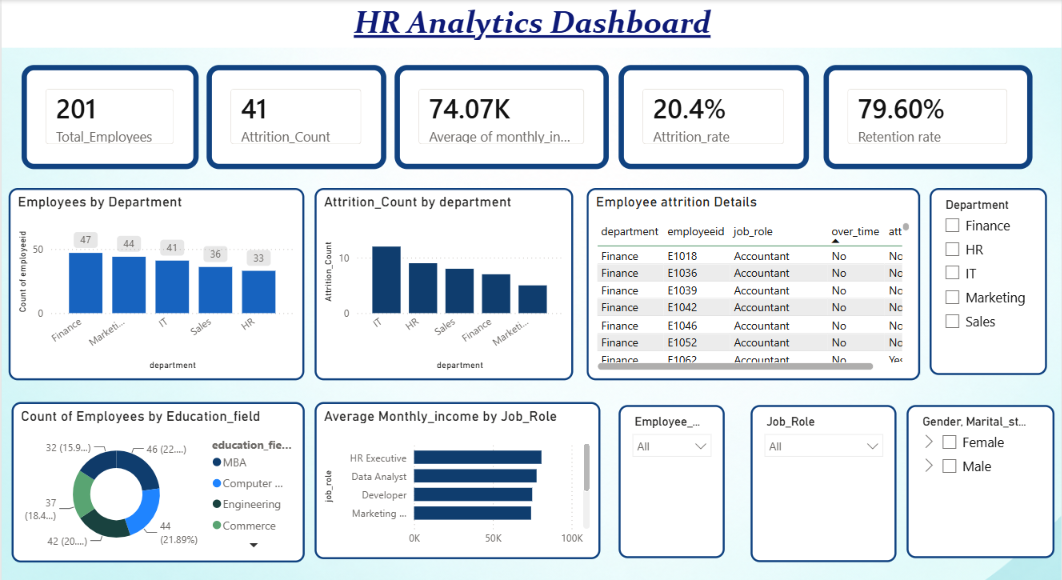

What the dashboard file says about the page in this screenshot:
{"tool":"powerbi","page":{"name":"Page 1","canvas":[1280,720],"ordinal":0},"visuals":[{"type":"textbox","box":[0,0,1280.3,57.6],"z":0},{"type":"clusteredColumnChart","title":"Employees by Department","fields":{"Category":["public hr_employee.department"],"Y":["CountNonNull(public hr_employee.employeeid)"]},"box":[8.6,226.2,357.1,232.3],"z":2000},{"type":"clusteredColumnChart","fields":{"Category":["public hr_employee.department"],"Y":["public hr_employee.Attrition_Count"]},"box":[377.9,226.2,311.8,232.3],"z":3000},{"type":"donutChart","title":"Count of Employees by Education_field","fields":{"Category":["public hr_employee.education_field"],"Y":["CountNonNull(public hr_employee.employeeid)"]},"box":[12.2,485.5,353.4,193.4],"z":5000},{"type":"clusteredBarChart","title":"Average Monthly_income by Job_Role","fields":{"Category":["public hr_employee.job_role"],"Y":["Avg(public hr_employee.monthly_income)"]},"box":[377.9,485.5,344.8,189.5],"z":6000},{"type":"tableEx","title":"Employee attrition Details","fields":{"Values":["public hr_employee.department","public hr_employee.employeeid","public hr_employee.job_role","public hr_employee.over_time","public hr_employee.attrition"]},"box":[705.6,226.2,402.3,232.3],"z":8000},{"type":"slicer","fields":{"Values":["public hr_employee.department"]},"box":[1120.1,226.2,141.9,225.4],"z":9000},{"type":"slicer","fields":{"Values":["public hr_employee.employeeid"]},"box":[744.7,489.1,128,185],"z":10000},{"type":"cardVisual","title":"Retention Rate","fields":{"Data":["public hr_employee.Retention rate"]},"box":[991.7,78.3,251.9,126],"z":11001},{"type":"cardVisual","fields":{"Data":["public hr_employee.Attrition_Count"]},"box":[247,78.3,216.4,126],"z":11002},{"type":"cardVisual","fields":{"Data":["public hr_employee.Attrition_rate"]},"box":[744.7,78.3,229.9,126],"z":11003},{"type":"cardVisual","fields":{"Data":["Avg(public hr_employee.monthly_income)"]},"box":[474.5,78.3,258,126],"z":11004},{"type":"cardVisual","fields":{"Data":["public hr_employee.Total_Employees"]},"box":[24.5,78.3,214,126],"z":11005},{"type":"slicer","fields":{"Values":["public hr_employee.job_role"]},"box":[903.7,489.1,176.1,189.5],"z":11007},{"type":"slicer","fields":{"Values":["public hr_employee.gender","public hr_employee.marital_status"]},"box":[1092,489.1,178.5,184.6],"z":11008}]}

Visuals, with their boxes in screenshot pixels (x1, y1, x2, y2), scaled from the page's 1280x720 canvas onto the 1062x580 screenshot:
textbox: <box>0,0,1061,46</box>
"Employees by Department" clusteredColumnChart: <box>7,182,303,369</box>
clusteredColumnChart - public hr_employee.department x public hr_employee.Attrition_Count: <box>314,182,572,369</box>
"Count of Employees by Education_field" donutChart: <box>10,391,303,547</box>
"Average Monthly_income by Job_Role" clusteredBarChart: <box>314,391,600,544</box>
"Employee attrition Details" tableEx: <box>585,182,919,369</box>
slicer - public hr_employee.department: <box>929,182,1047,364</box>
slicer - public hr_employee.employeeid: <box>618,394,724,543</box>
"Retention Rate" cardVisual: <box>823,63,1032,165</box>
cardVisual - public hr_employee.Attrition_Count: <box>205,63,384,165</box>
cardVisual - public hr_employee.Attrition_rate: <box>618,63,809,165</box>
cardVisual - Avg(public hr_employee.monthly_income): <box>394,63,608,165</box>
cardVisual - public hr_employee.Total_Employees: <box>20,63,198,165</box>
slicer - public hr_employee.job_role: <box>750,394,896,547</box>
slicer - public hr_employee.gender x public hr_employee.marital_status: <box>906,394,1054,543</box>
